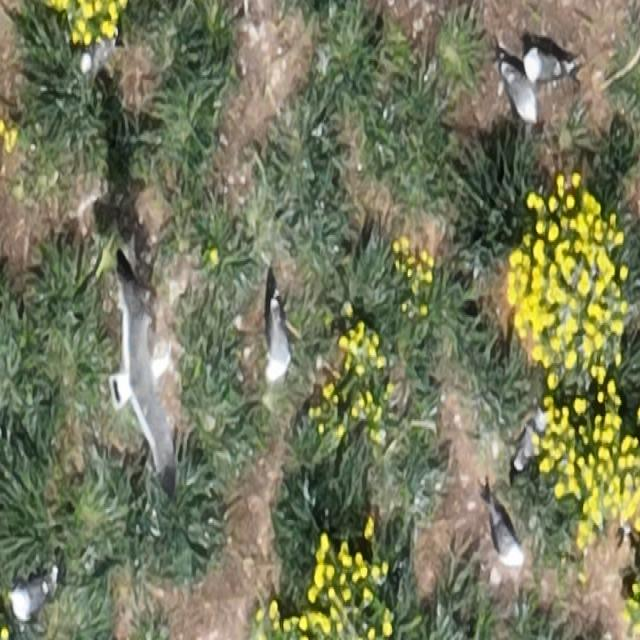F: (112, 278, 182, 477)
umineko: (487, 497, 527, 564), (9, 571, 57, 622), (265, 299, 294, 383), (500, 62, 536, 126), (527, 53, 566, 81), (84, 41, 114, 73)
